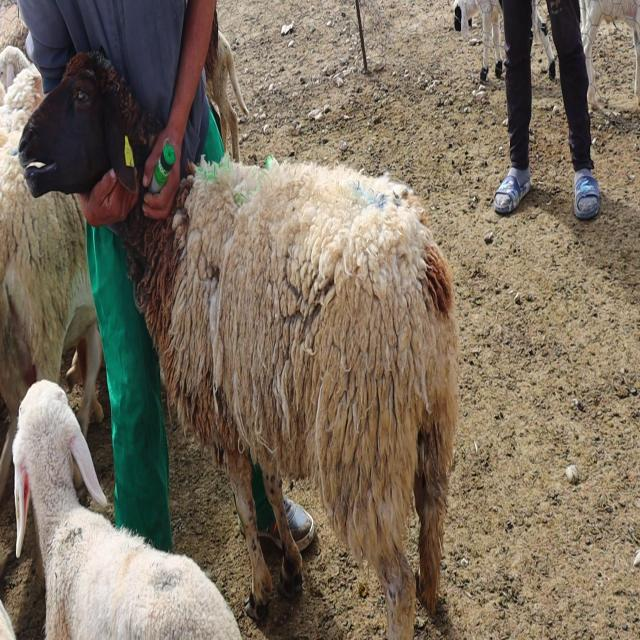Score_1: (131, 161, 457, 639)
